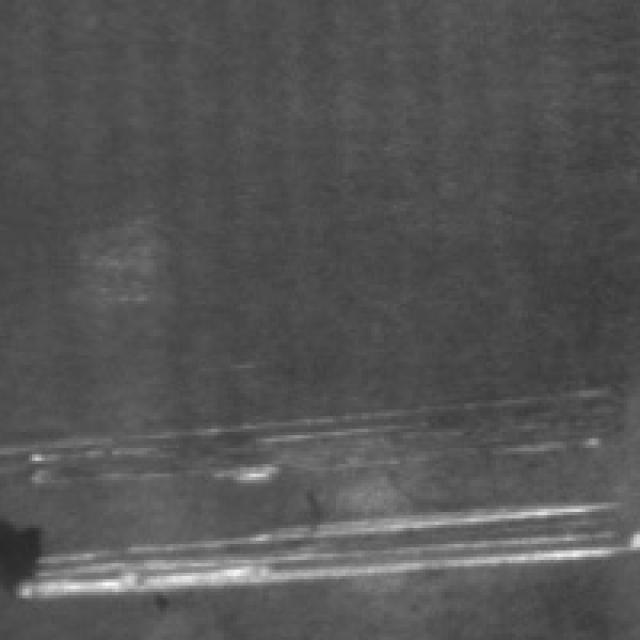scratches: (29, 493, 640, 598), (36, 406, 407, 480)
